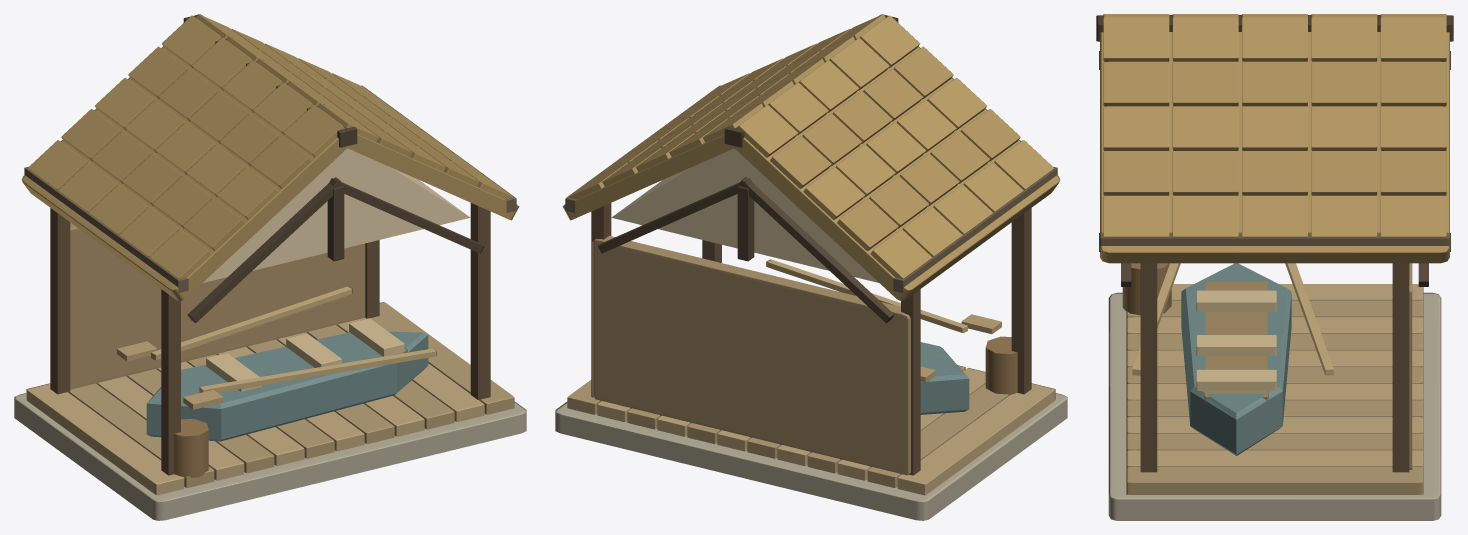
The model's file is boathouse-3.glb.
3 views of the same model, side by side, from view 1: azimuth 30°, elevation 25°; view 2: azimuth 150°, elevation 25°; view 3: azimuth 270°, elevation 25° (orthographic). The views are drawn at different scales.
Visible parts, largest first — view 1: boathouse-3-0; view 2: boathouse-3-0; view 3: boathouse-3-0.
Boxes of the visible parts, bbox=[...] form: boathouse-3-0: bbox=[14, 14, 526, 520]; boathouse-3-0: bbox=[555, 14, 1067, 520]; boathouse-3-0: bbox=[1096, 14, 1453, 520].
Size of the model in its own units: 2.8 by 2.54 by 2.04.
